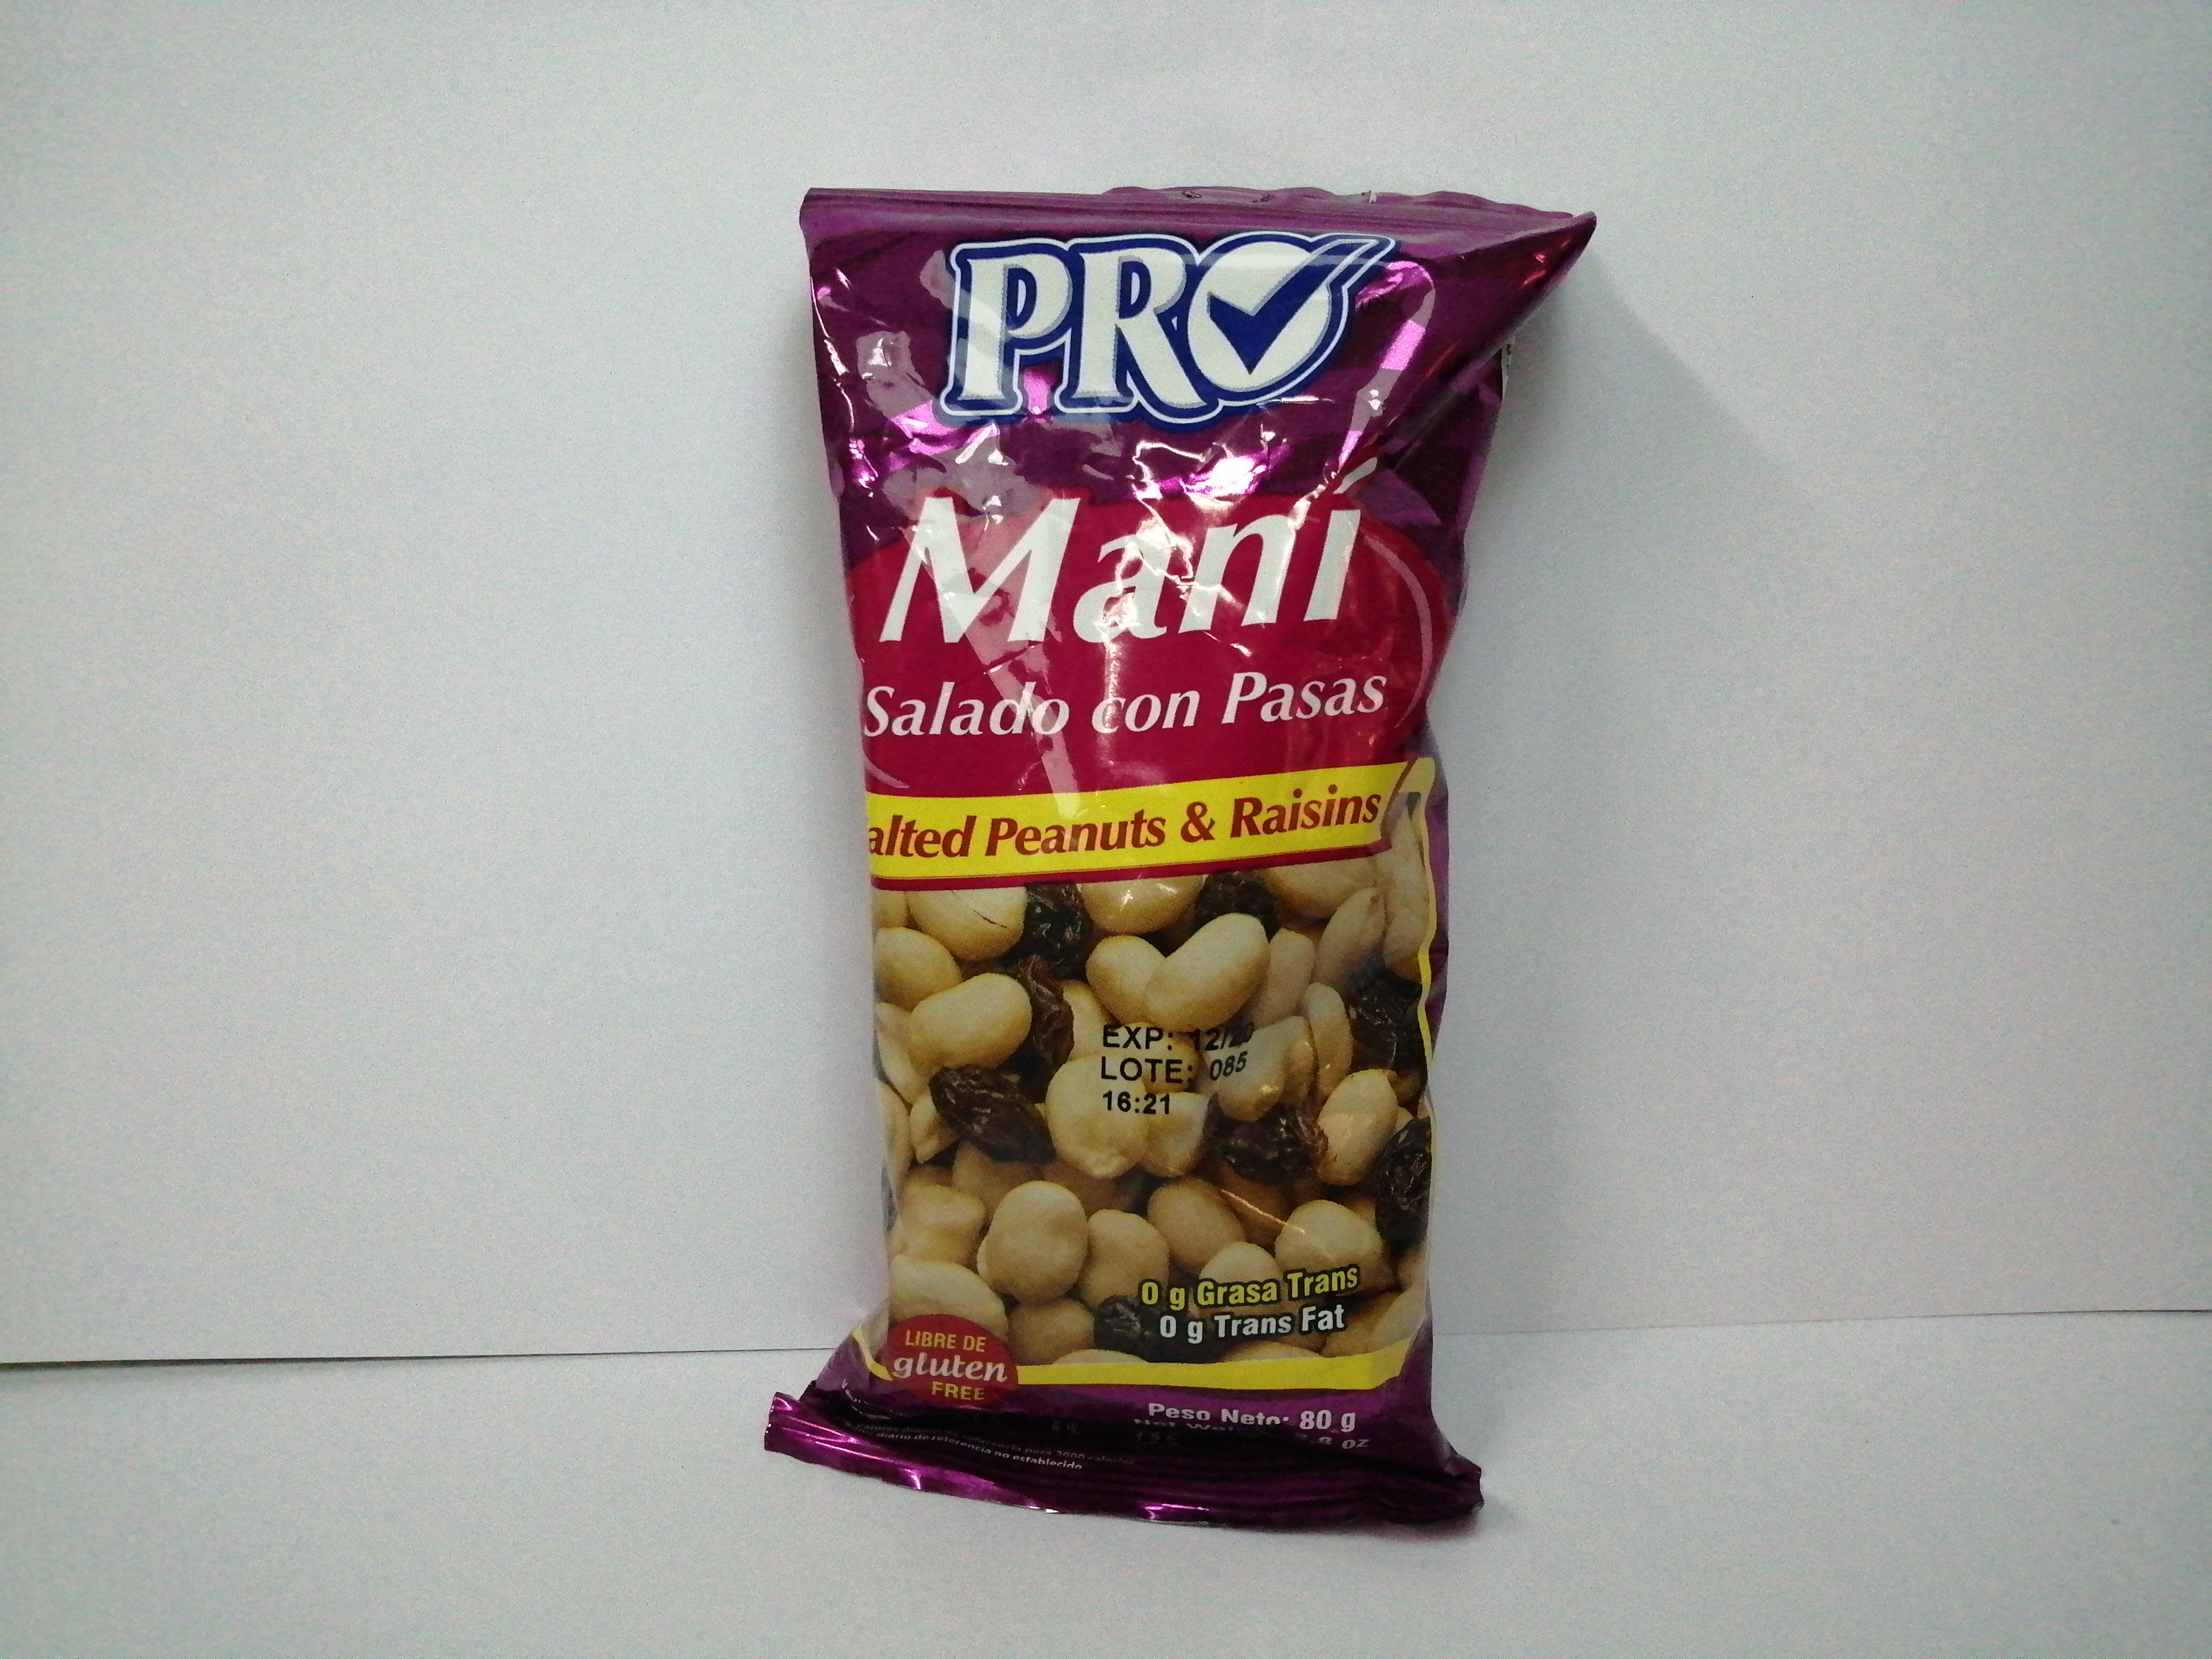mani: (770, 181, 1590, 1521)
